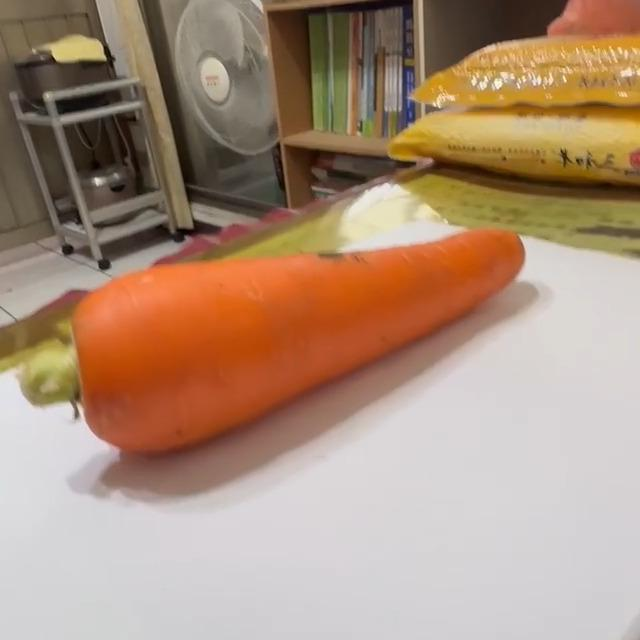carrot: (21, 225, 528, 462)
